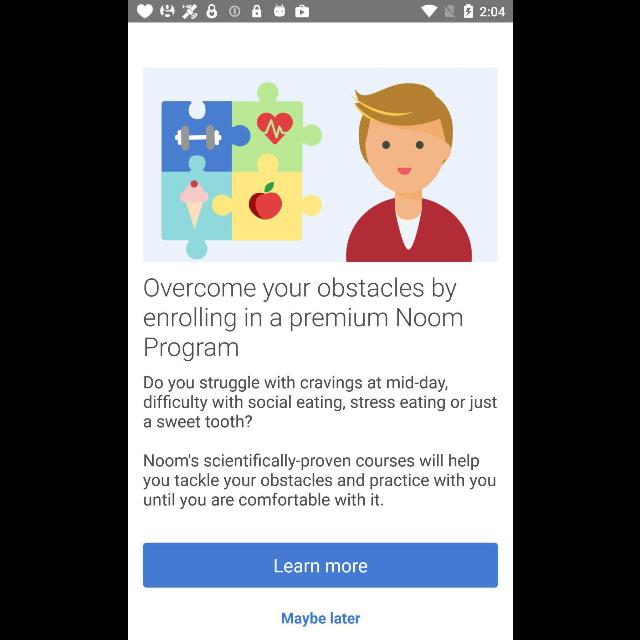image: (143, 68, 497, 262)
text: (142, 278, 462, 362), (142, 454, 496, 510), (144, 376, 496, 428), (280, 612, 360, 626)
textbutton: (142, 542, 498, 588)
uppertaskbar: (128, 1, 512, 23)
